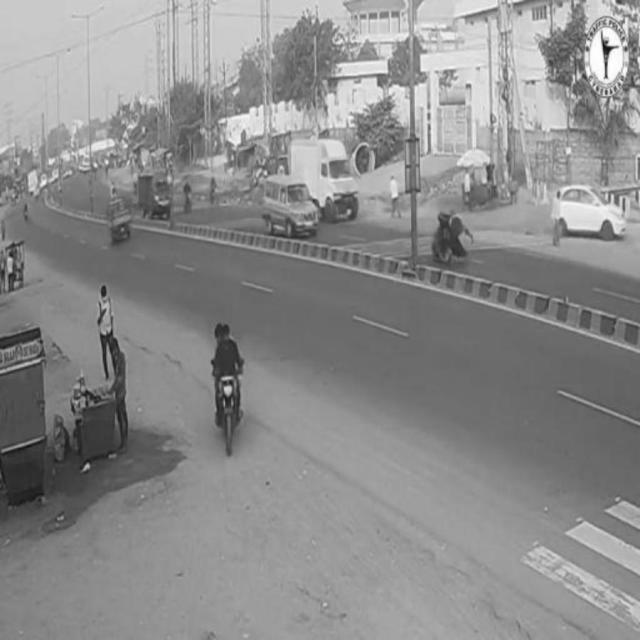accident: (431, 210, 472, 272)
person: (107, 341, 131, 459), (98, 284, 118, 376)
vehicle: (291, 139, 359, 225), (554, 187, 628, 242), (212, 327, 242, 455), (266, 173, 317, 237), (109, 201, 131, 237)
